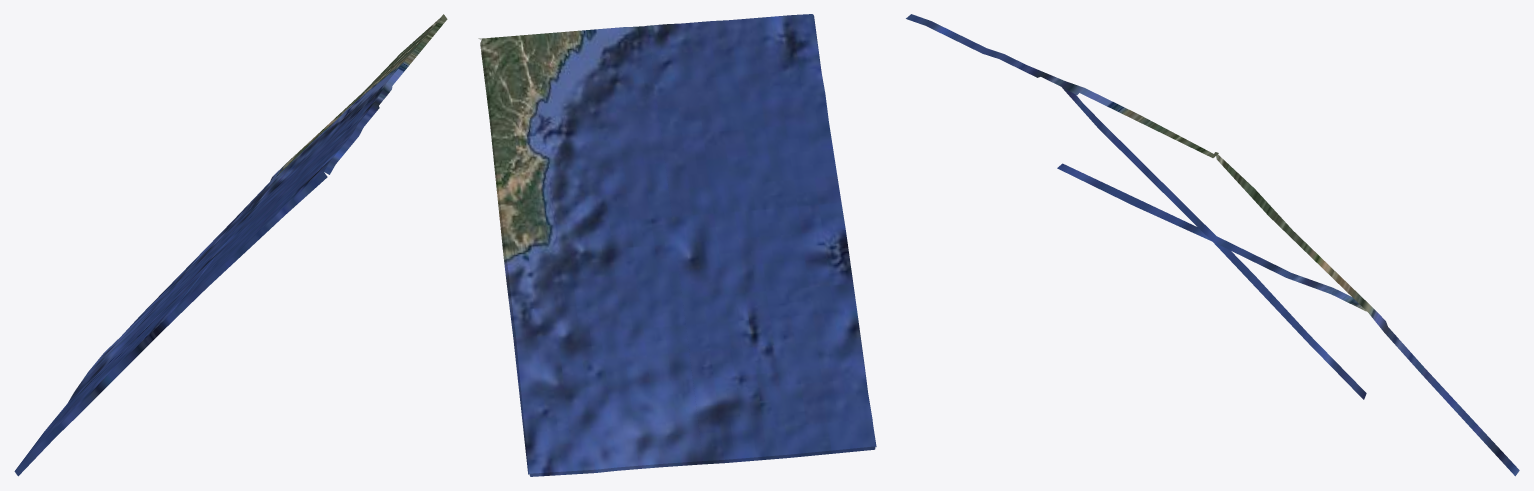
3 renders of one model, left to right at view 1: azimuth 30°, elevation 25°; view 2: azimuth 150°, elevation 25°; view 3: azimuth 270°, elevation 25°, orthographic. The views are drawn at different scales.
Bounding box in the file's own units: 316158 × 244766 × 314502.
Materials: 1 (1 with a texture image).
